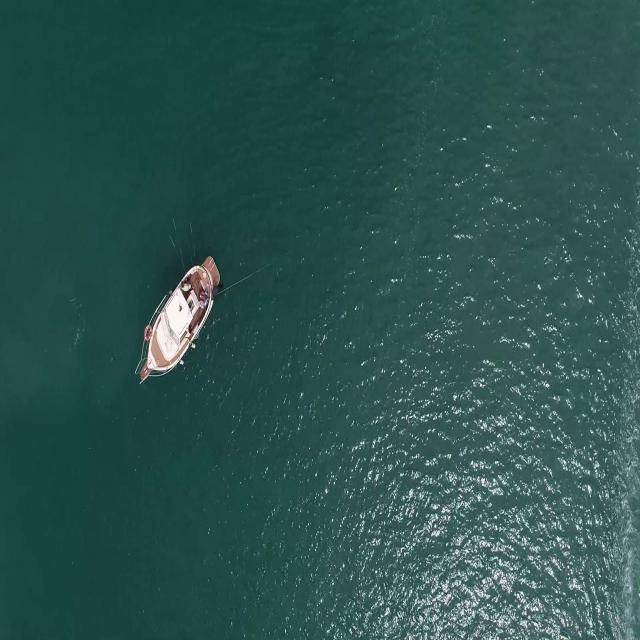boat: (135, 256, 221, 378)
life_buoy: (144, 319, 154, 343)
person: (179, 278, 196, 292), (197, 297, 209, 313)
